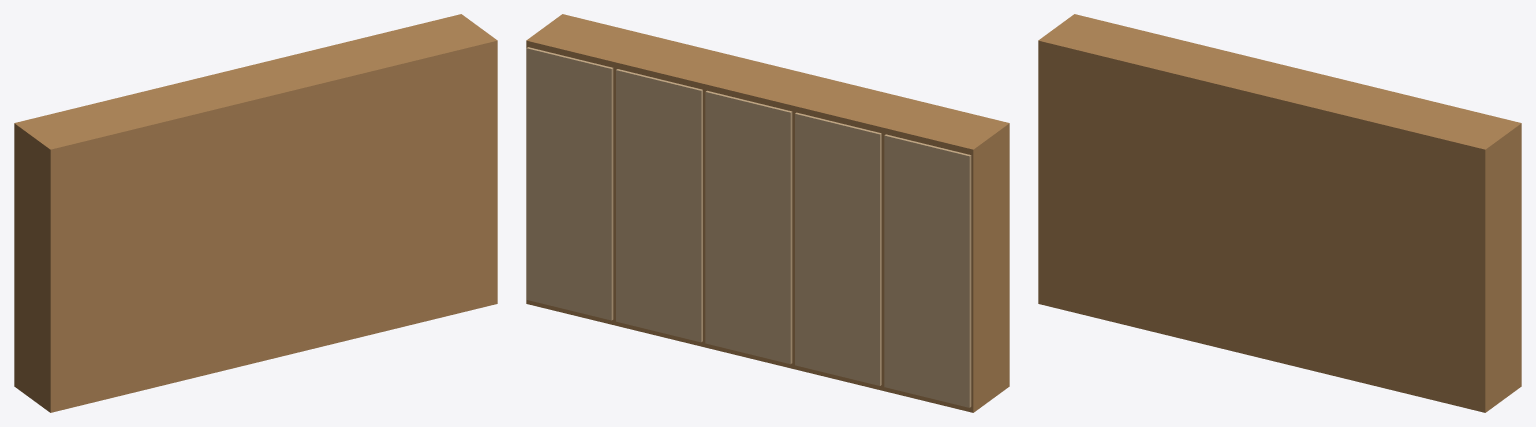
3 renders of one model, left to right at view 1: azimuth 30°, elevation 25°; view 2: azimuth 150°, elevation 25°; view 3: azimuth 330°, elevation 25°, orthographic.
Parts seen in each view (by area): view 1: lockers; view 2: lockers; view 3: lockers.
Boxes of the visible parts, <box> form: lockers: <box>14,14,497,412</box>; lockers: <box>526,14,1009,412</box>; lockers: <box>1038,14,1521,412</box>.
Size of the model in its own units: 3.2 by 0.472 by 1.8.
